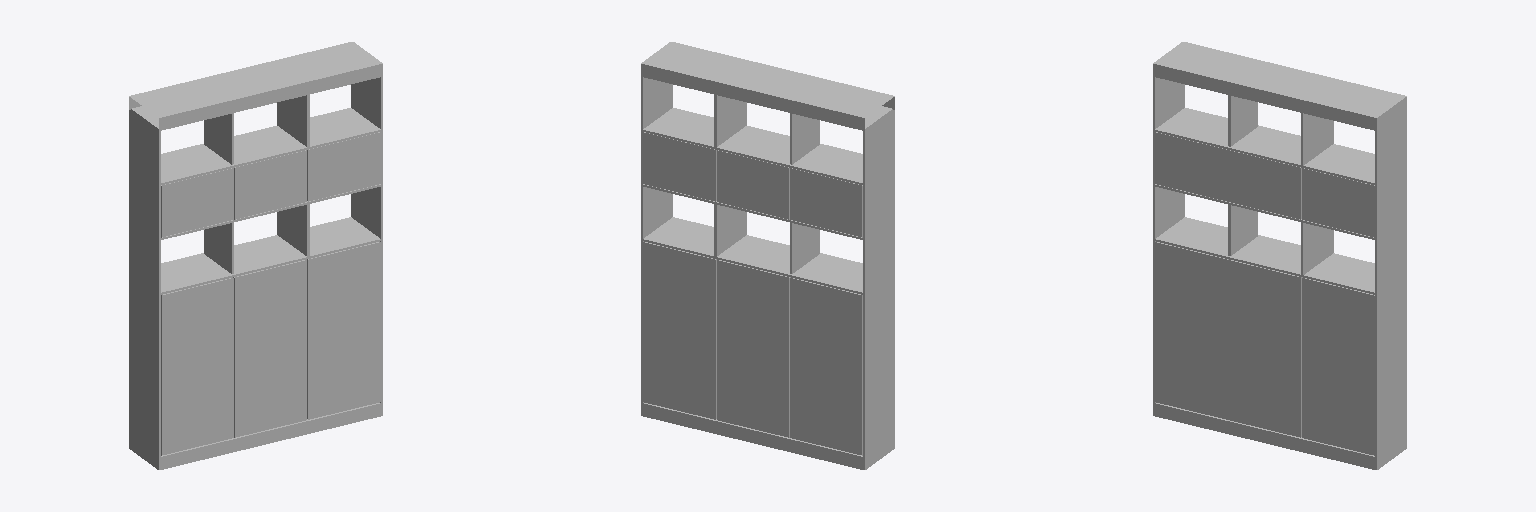
3 views of the same model, side by side, from view 1: azimuth 30°, elevation 25°; view 2: azimuth 150°, elevation 25°; view 3: azimuth 330°, elevation 25° (orthographic).
Visible parts, largest first — view 1: 立方体, 立方体.1, 立方体.3, 立方体.4, 立方体.6, 立方体.5, 立方体.2; view 2: 立方体, 立方体.1, 立方体.3, 立方体.4, 立方体.6, 立方体.5, 立方体.2; view 3: 立方体, 立方体.3, 立方体.4, 立方体.1, 立方体.5, 立方体.2, 立方体.6.
Boxes of the visible parts, box(x1,y1,x2,y2) form: 立方体: box(129, 42, 382, 469); 立方体.1: box(307, 242, 380, 419); 立方体.3: box(233, 260, 306, 437); 立方体.4: box(161, 278, 233, 455); 立方体.6: box(307, 132, 380, 201); 立方体.5: box(234, 150, 306, 219); 立方体.2: box(161, 168, 233, 237); 立方体: box(641, 42, 894, 469); 立方体.1: box(643, 242, 716, 419); 立方体.3: box(717, 260, 790, 437); 立方体.4: box(790, 278, 862, 455); 立方体.6: box(643, 132, 716, 201); 立方体.5: box(717, 150, 789, 219); 立方体.2: box(790, 168, 862, 237); 立方体: box(1153, 42, 1406, 469); 立方体.3: box(1228, 260, 1302, 437); 立方体.4: box(1155, 242, 1228, 419); 立方体.1: box(1302, 278, 1374, 455); 立方体.5: box(1228, 150, 1301, 219); 立方体.2: box(1155, 132, 1227, 201); 立方体.6: box(1302, 168, 1374, 237).
Bounding box in the file's own units: 214 × 322 × 50.